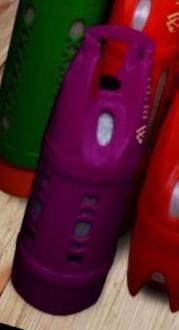cylinder: (1, 1, 179, 330)
